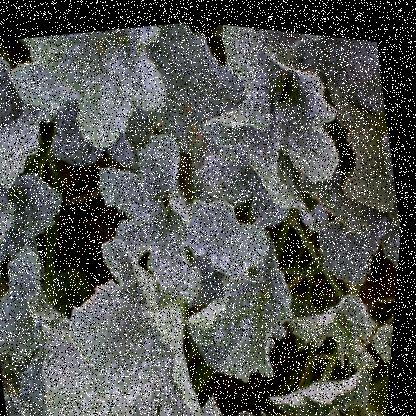PowderyMildew: (93, 132, 264, 296), (2, 9, 178, 162), (211, 19, 347, 180), (39, 287, 195, 415), (183, 287, 310, 387)
